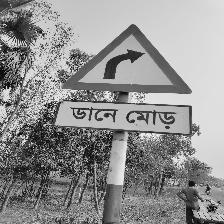Right-turn: (55, 24, 194, 135)
